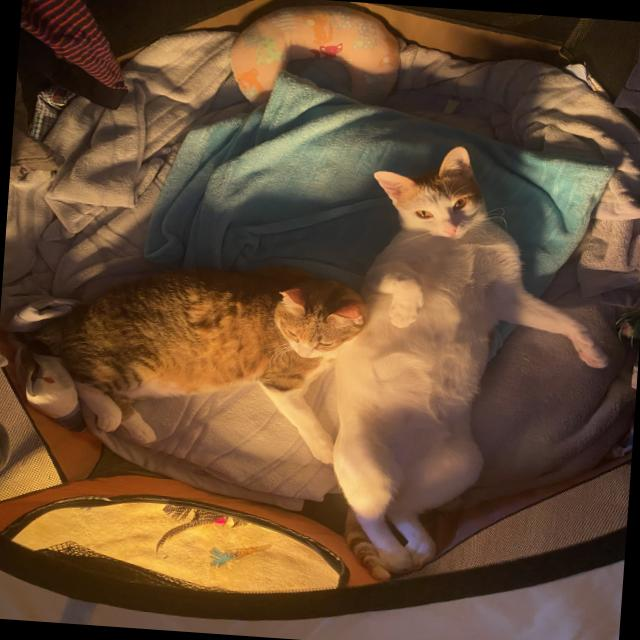cat1: (337, 157, 623, 588)
cat2: (22, 244, 370, 469)
